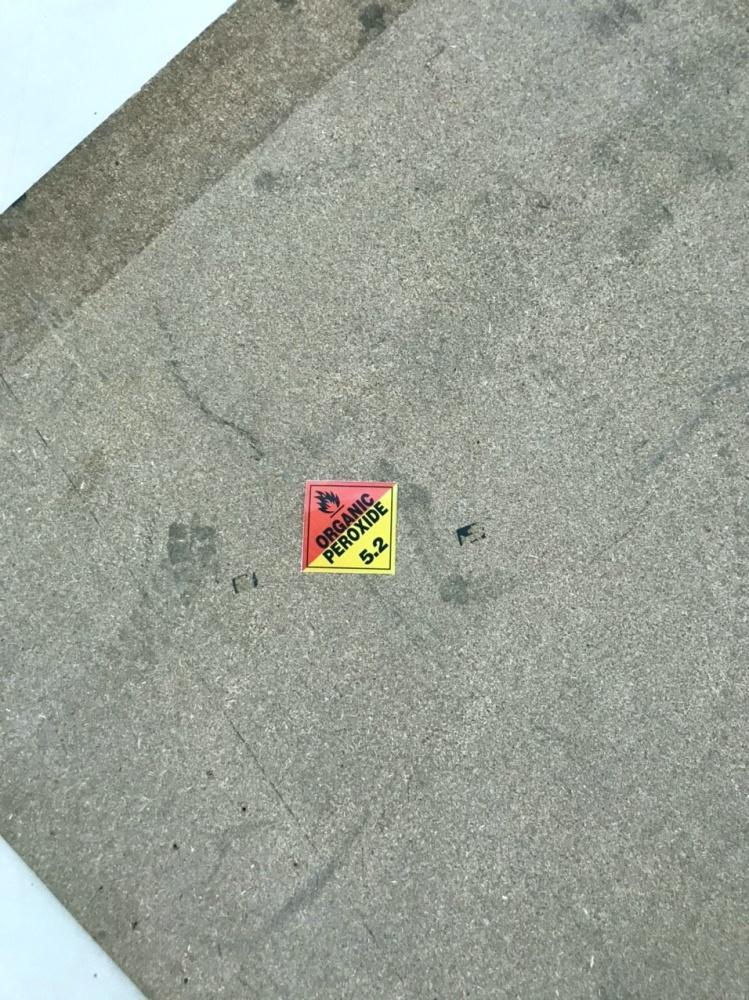organic-peroxide: (299, 479, 401, 579)
